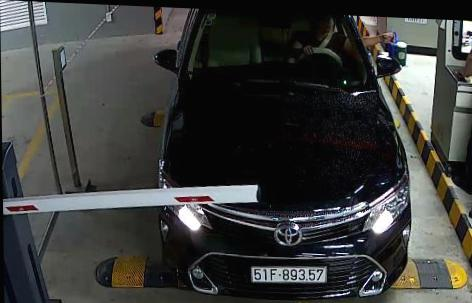License_Plate: (251, 262, 329, 286)
